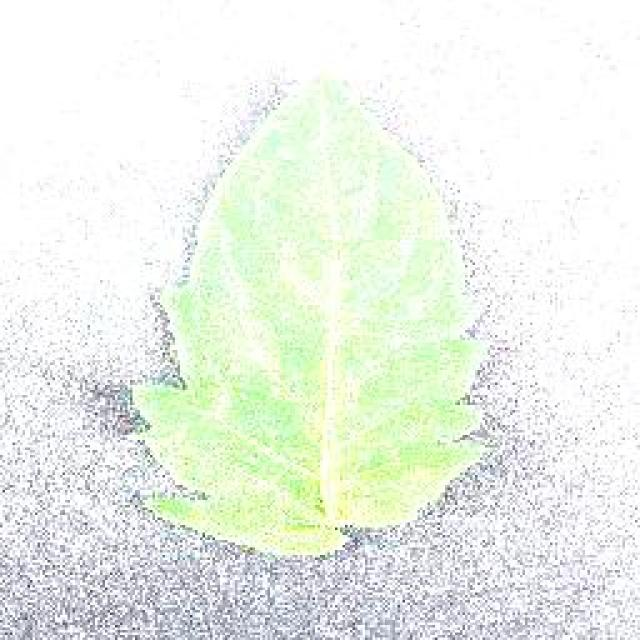Tomato___healthy: (133, 71, 499, 562)
